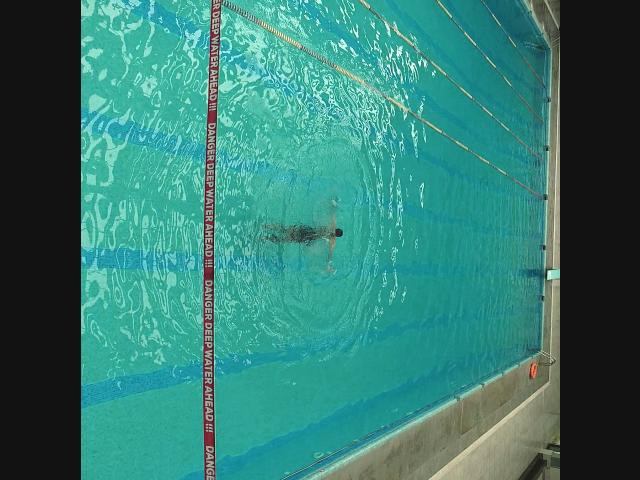drowning: (258, 204, 346, 270)
